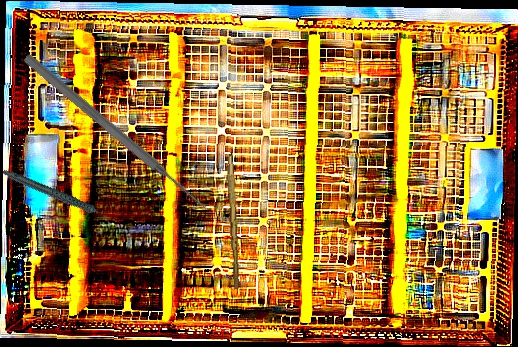Handpiece: (1, 149, 113, 243)
Pusher: (20, 51, 213, 216)
Scalpel Handle: (223, 153, 243, 290)
